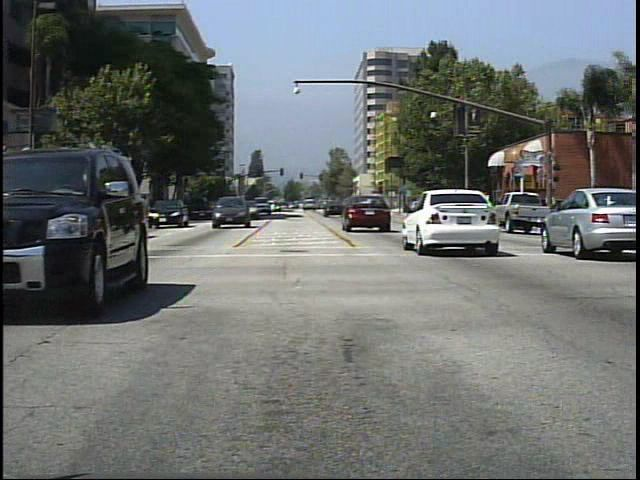person: (537, 192, 556, 228), (497, 189, 514, 224)
